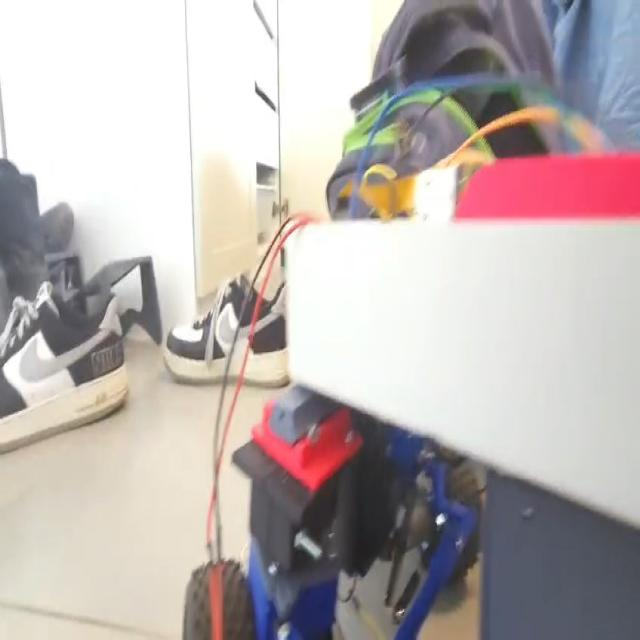Robot: (180, 74, 639, 639)
